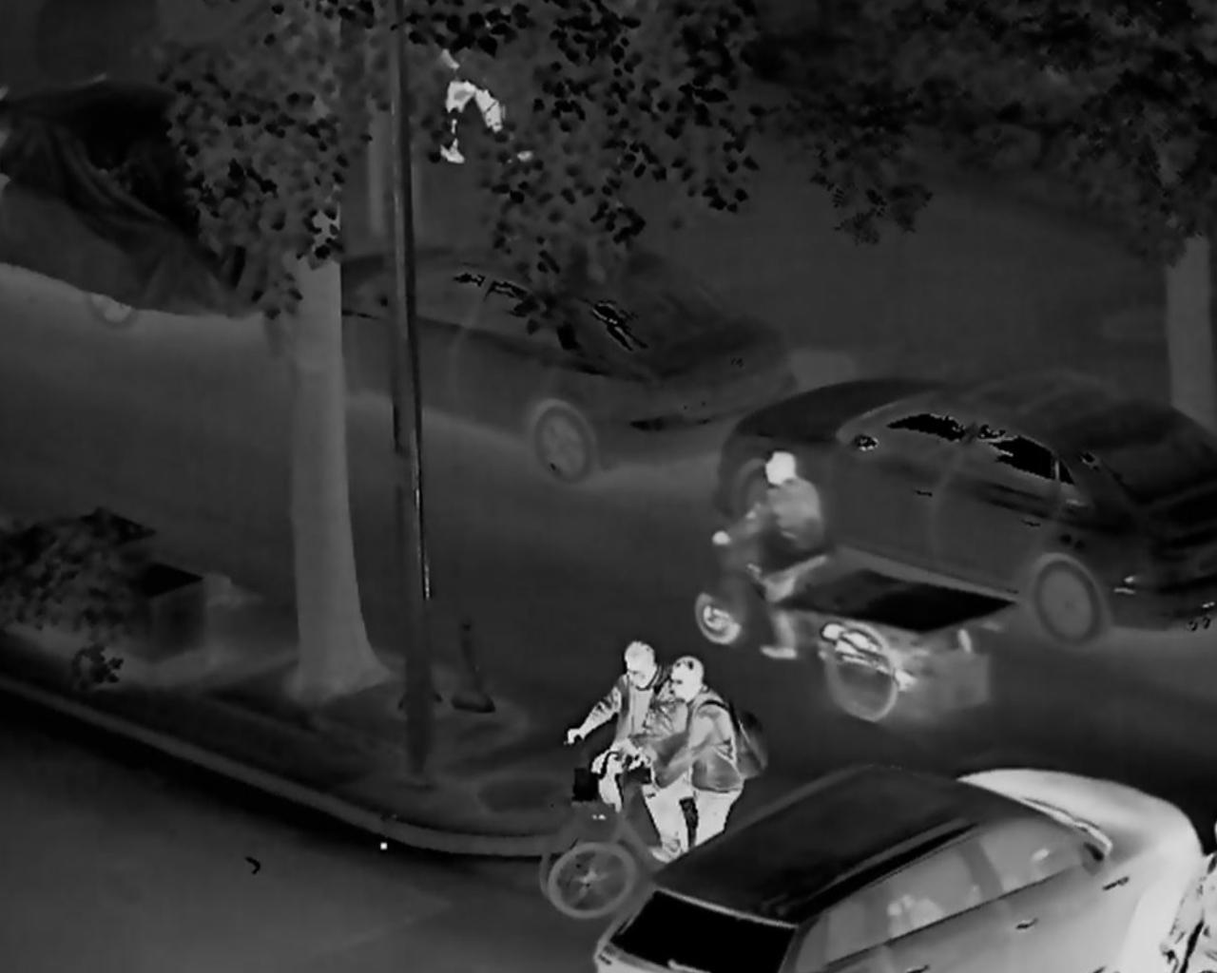person: (714, 444, 839, 660), (657, 659, 752, 920), (572, 630, 663, 846), (426, 37, 535, 174)
